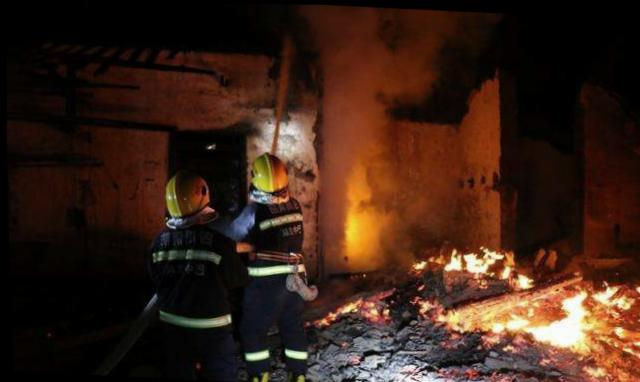fire: (347, 240, 639, 381)
